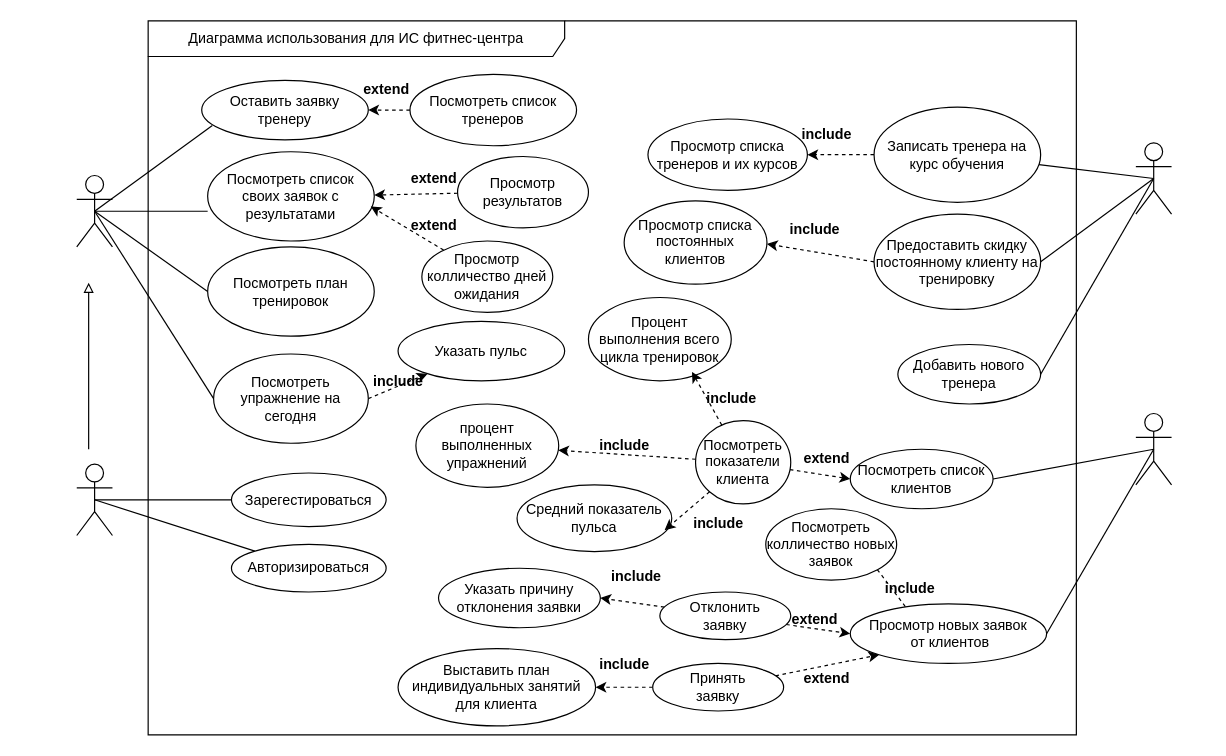
The diagram is 1226 pixels wide and 756 high, and some of its shapes have lost their labels. The shapes that lost their labels are listed below. From the top down, each one's centre as x and y in pixels, then its label:
pixel 1153 178: Администратор
pixel 94 210: Клиент
pixel 1153 448: Тренер
pixel 94 499: Не авторизированный клиент
